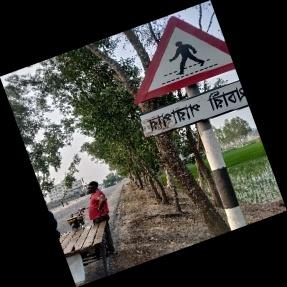Pedestrian-crossing: (133, 16, 248, 141)
